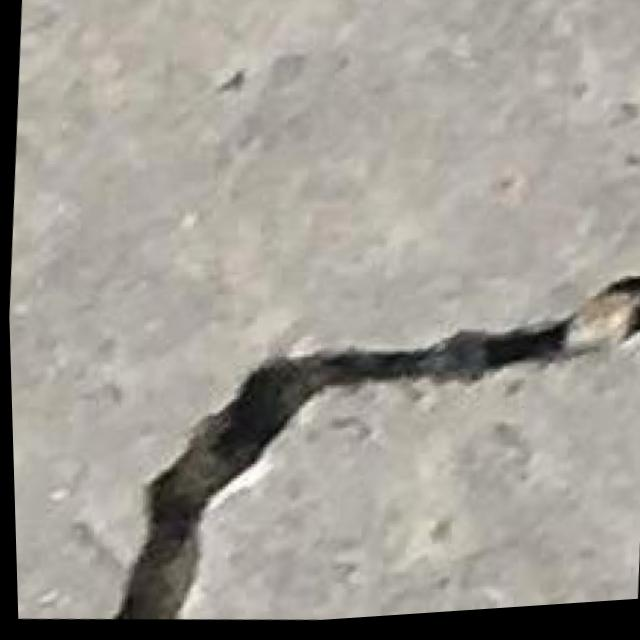Crack: (89, 225, 640, 636)
